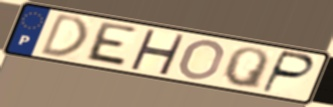D: (37, 11, 90, 59)
E: (82, 20, 140, 70)
H: (127, 27, 187, 77)
O: (176, 38, 228, 81)
P: (258, 49, 316, 95)
Q: (220, 46, 271, 92)
